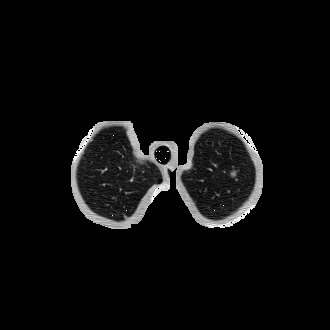PN: (230, 170, 236, 176)
